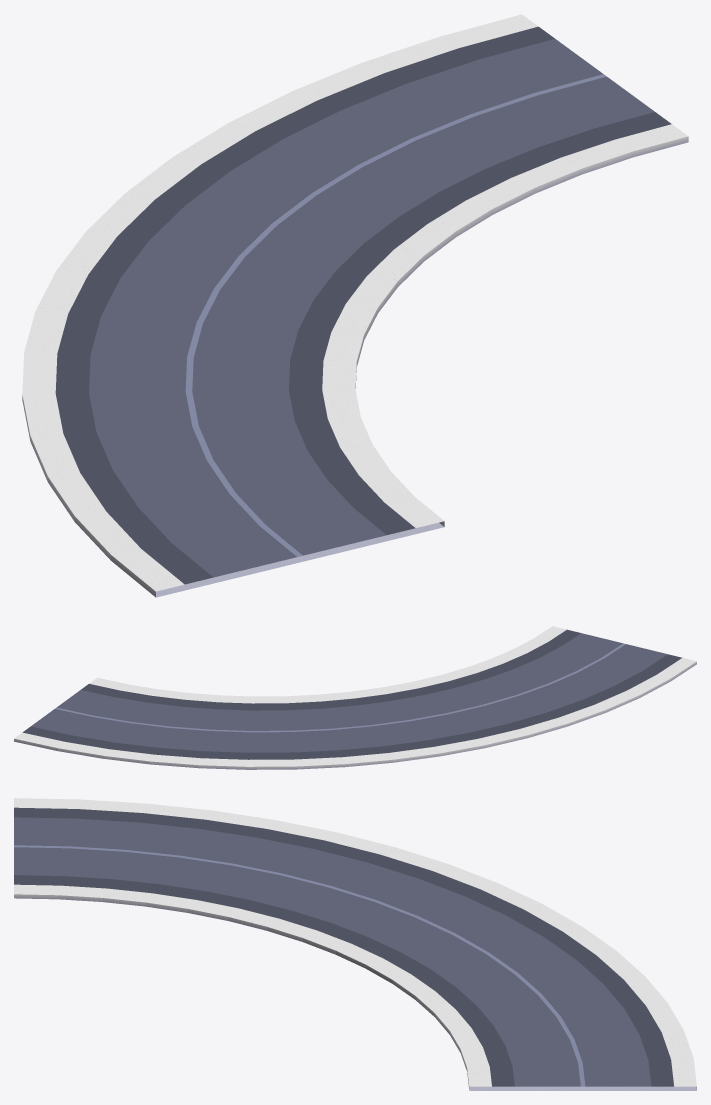
File: road-Turn-Flat-Flat-Even-Right-Size3.glb
3 renders of one model, top to bottom at view 1: azimuth 30°, elevation 25°; view 2: azimuth 150°, elevation 25°; view 3: azimuth 270°, elevation 25°, orthographic. The views are drawn at different scales.
Visible parts, largest first — view 1: road-Turn-Flat-Flat-Even-Right-Size3; view 2: road-Turn-Flat-Flat-Even-Right-Size3; view 3: road-Turn-Flat-Flat-Even-Right-Size3.
Part boxes in pixels (left/top/right/bottom): road-Turn-Flat-Flat-Even-Right-Size3: left=22, top=14, right=688, bottom=597; road-Turn-Flat-Flat-Even-Right-Size3: left=14, top=626, right=696, bottom=769; road-Turn-Flat-Flat-Even-Right-Size3: left=14, top=798, right=696, bottom=1090.
Bounding box in the file's own units: 3 × 0.02 × 3.
Materials: 1 (1 with a texture image).
